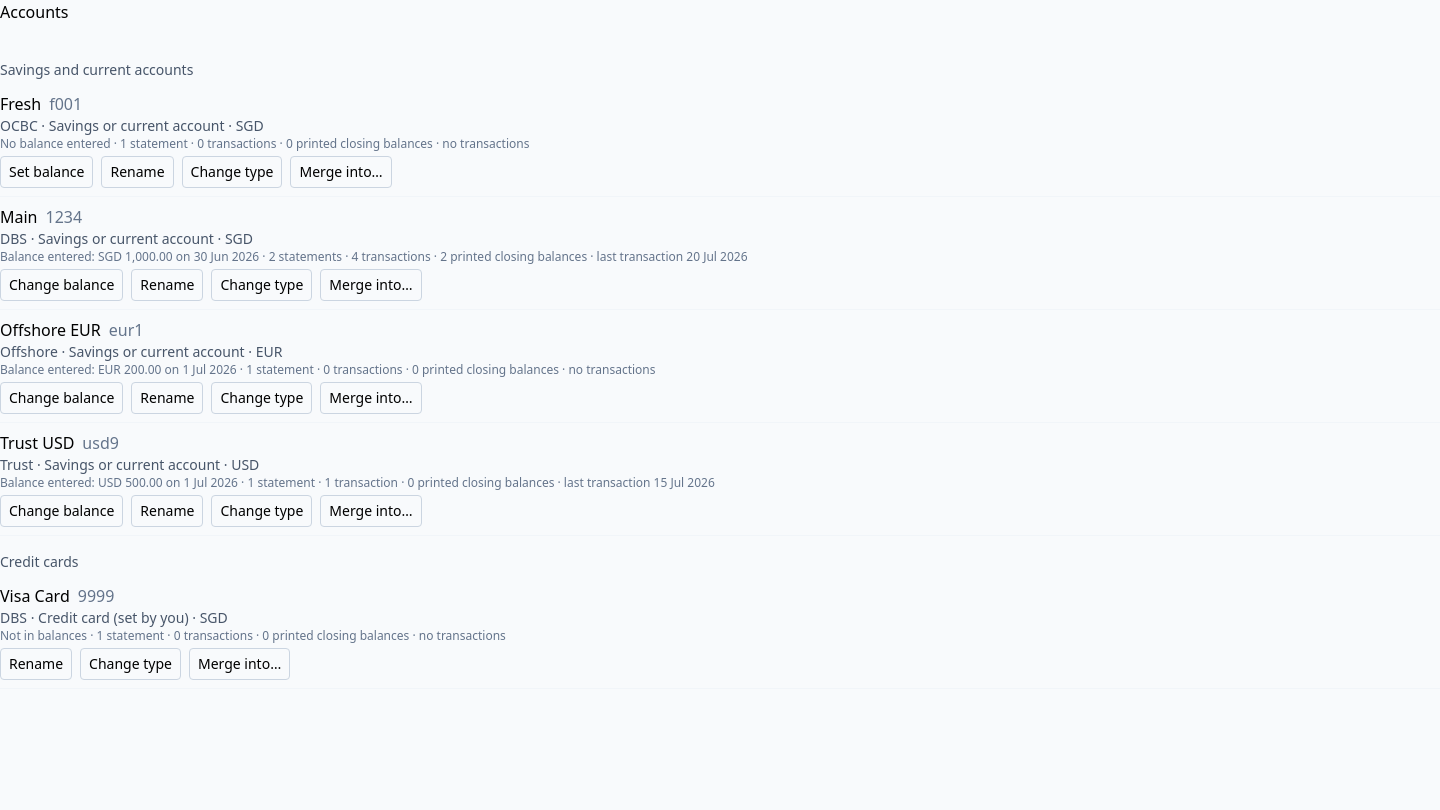
Scenario: AccountsSection: the actions › opens the rename, type and merge dialogs for the right account, and closes them on Cancel
The image size is (1440, 810).
Click the button "Rename" below "Main" at (167, 285), box [131, 269, 204, 301]
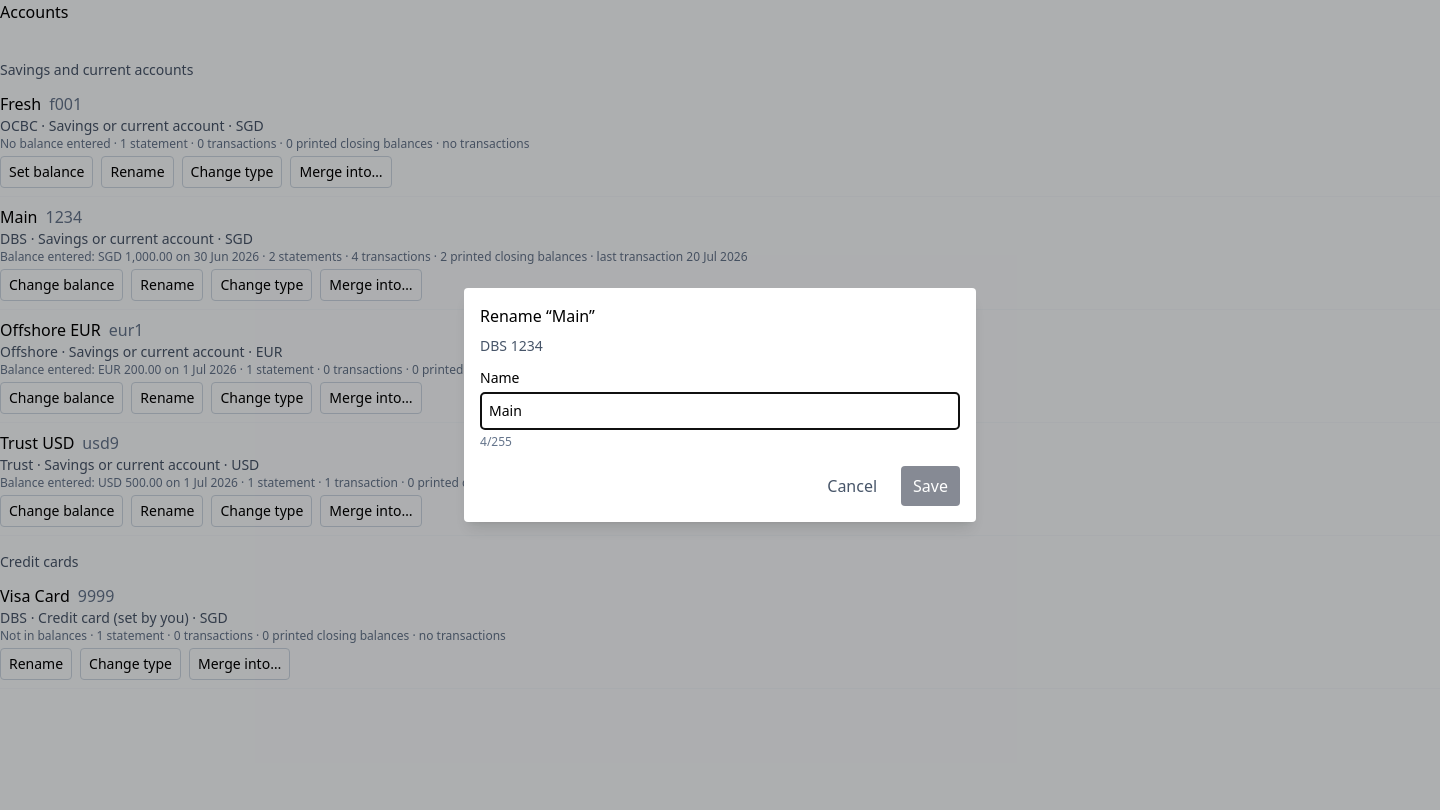
Result: the dialog with test id "rename-dialog" shows "Rename “Main”" at [480, 305, 595, 327]
Click the button with test id "rename-cancel" at (852, 486), box [815, 466, 889, 506]
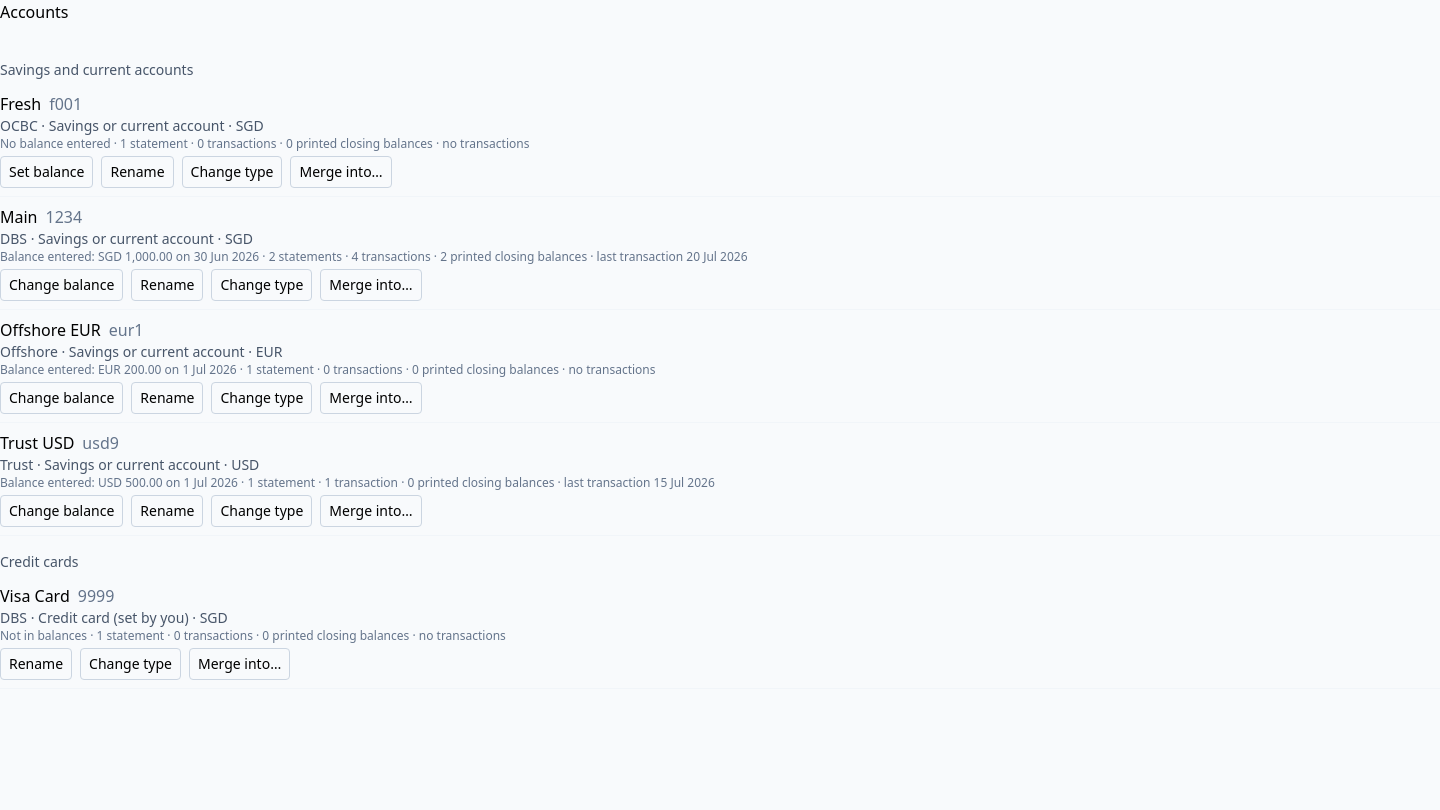
Result: the dialog with test id "rename-dialog" is gone
Click the button "Change type" below "Visa Card" at (131, 664), box [80, 648, 181, 680]
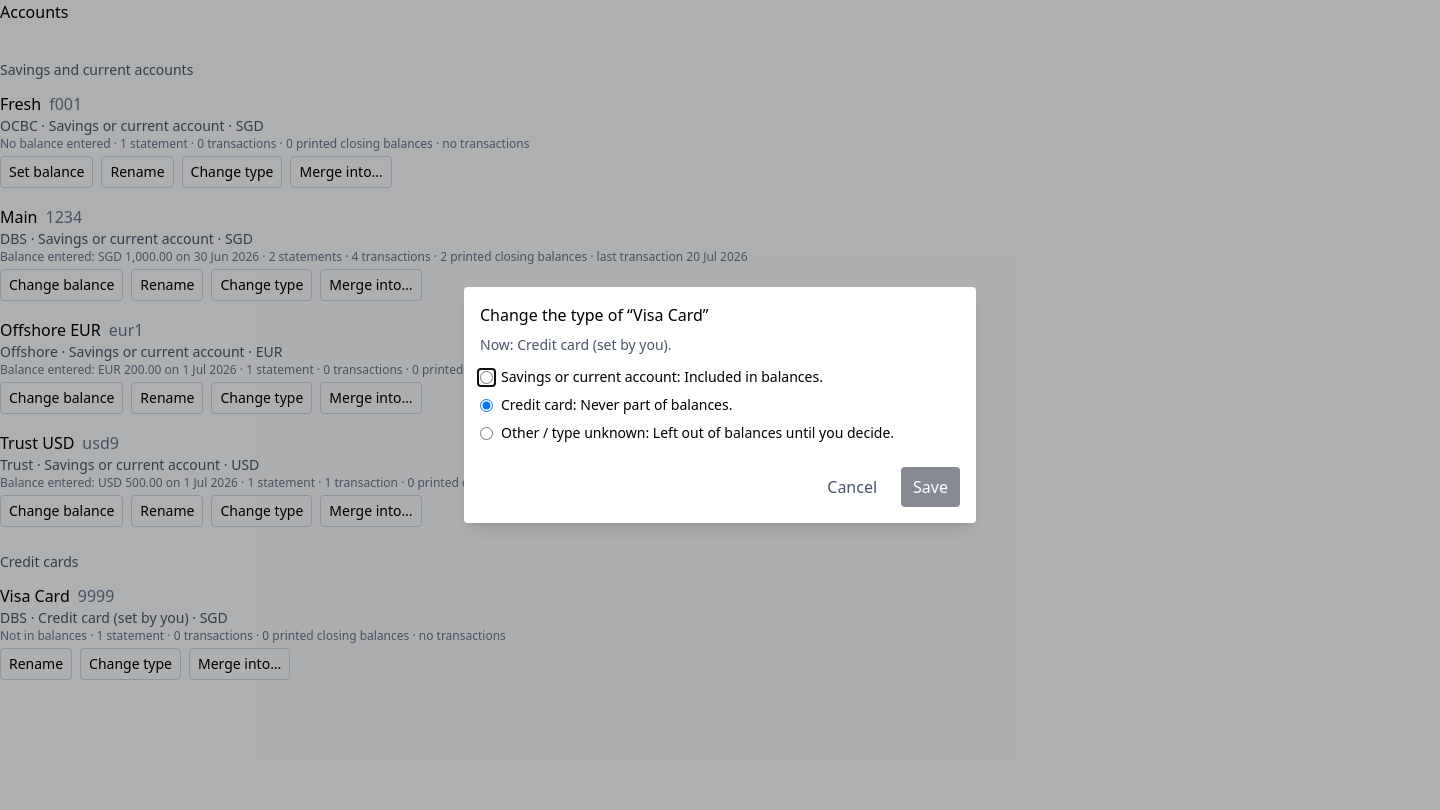
Result: the dialog with test id "type-dialog" shows "Change the type of “Visa Card”" at [480, 304, 709, 326]
Click the button with test id "type-cancel" at (852, 487), box [815, 467, 889, 507]
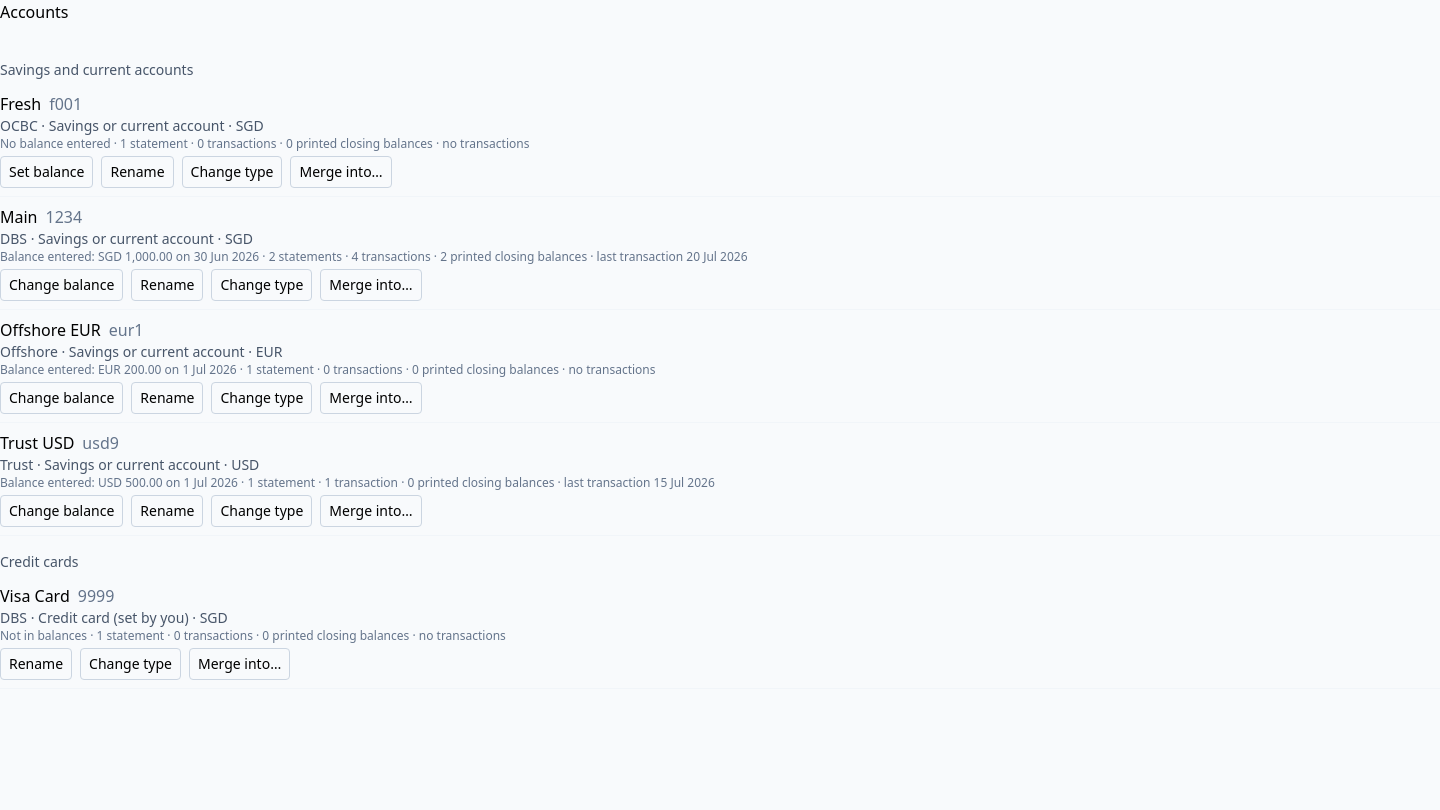
Result: the dialog with test id "type-dialog" is gone
Click the button "Merge into…" below "Fresh" at (341, 172), box [290, 156, 392, 188]
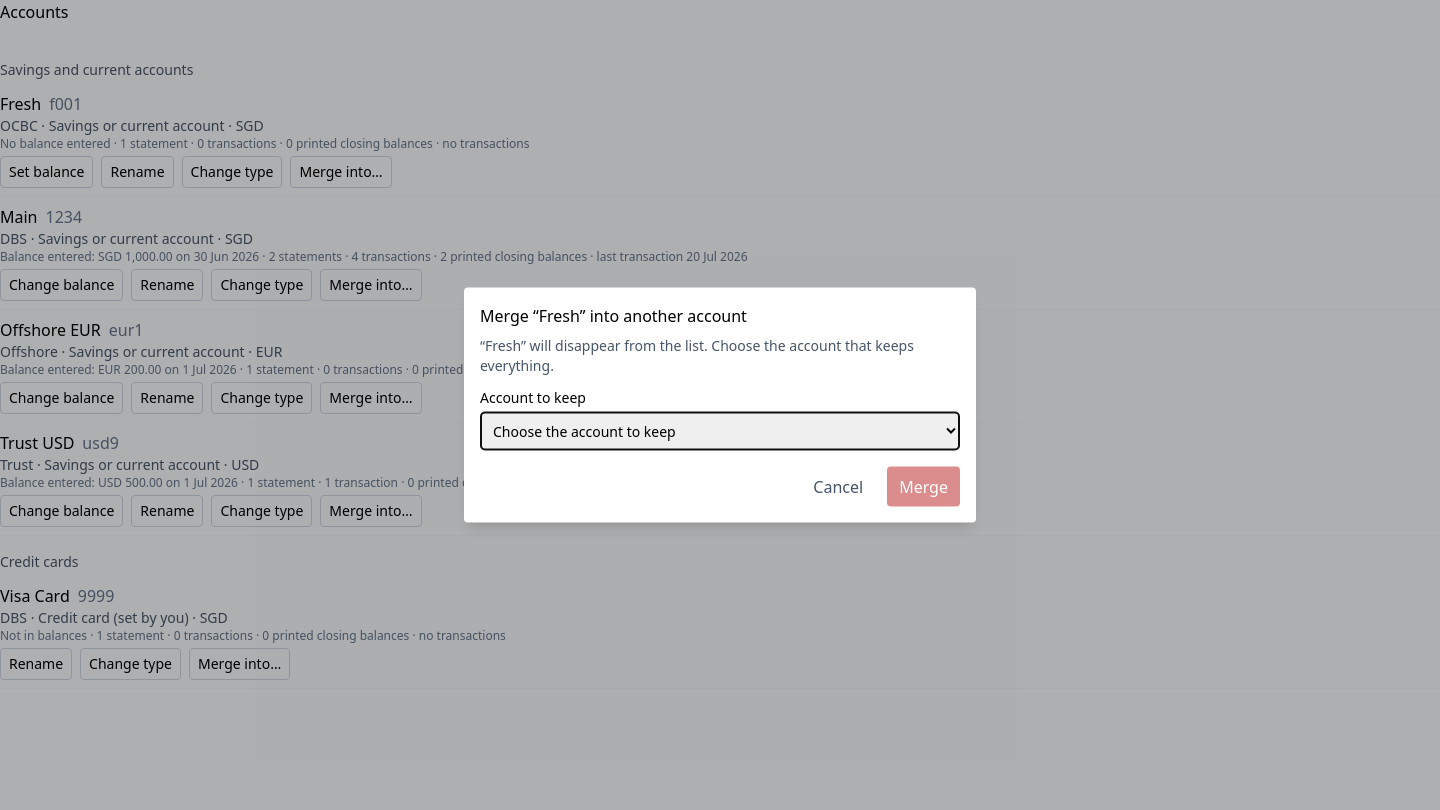
Result: the dialog with test id "merge-dialog" shows "Merge “Fresh” into another account" at [480, 304, 747, 326]
Click the button with test id "merge-cancel" at (838, 486), box [801, 466, 875, 506]
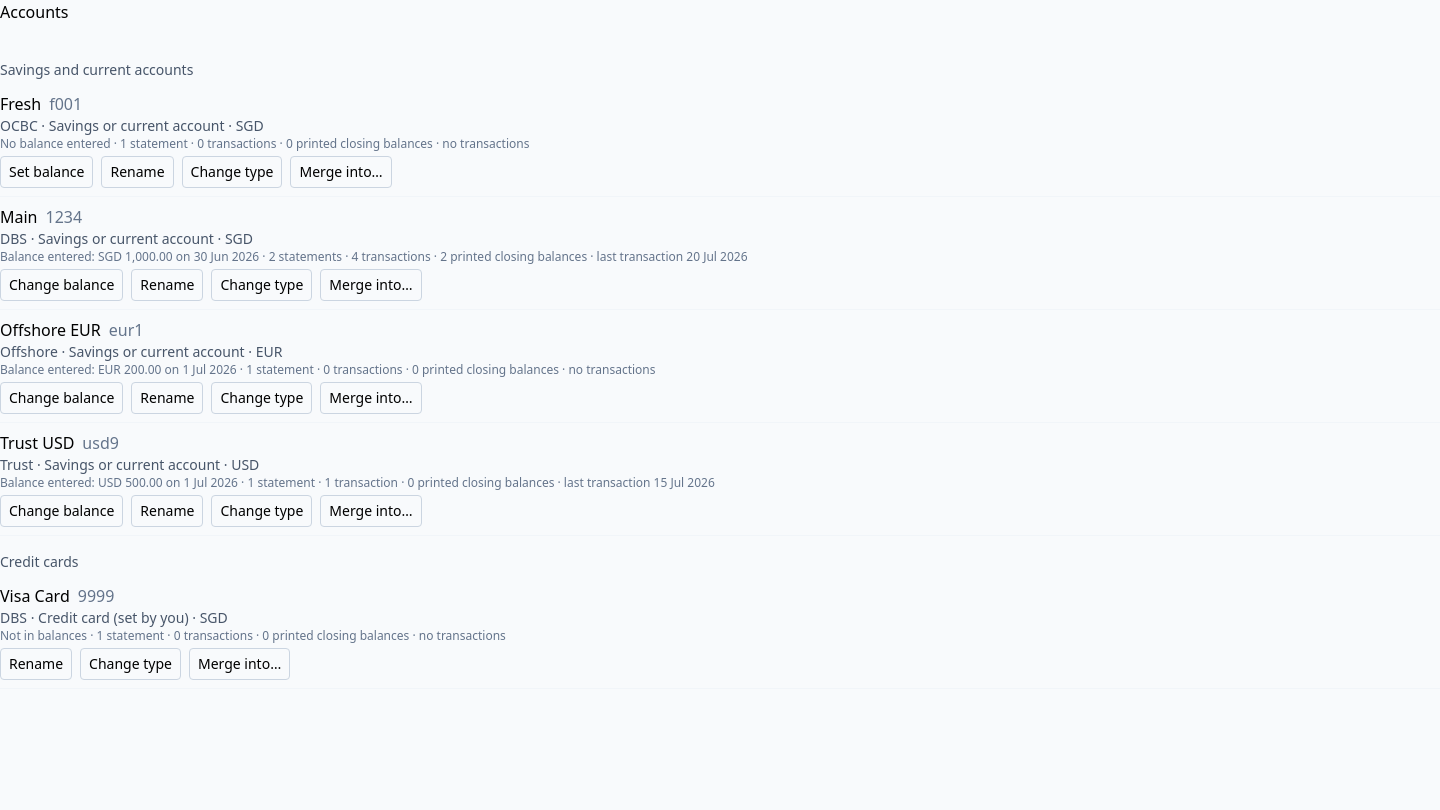
Result: the dialog with test id "merge-dialog" is gone
